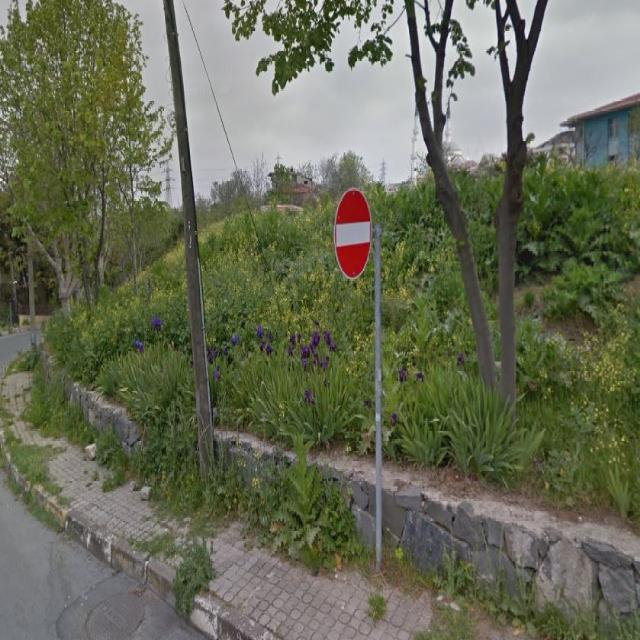girisyok: (336, 188, 372, 279)
